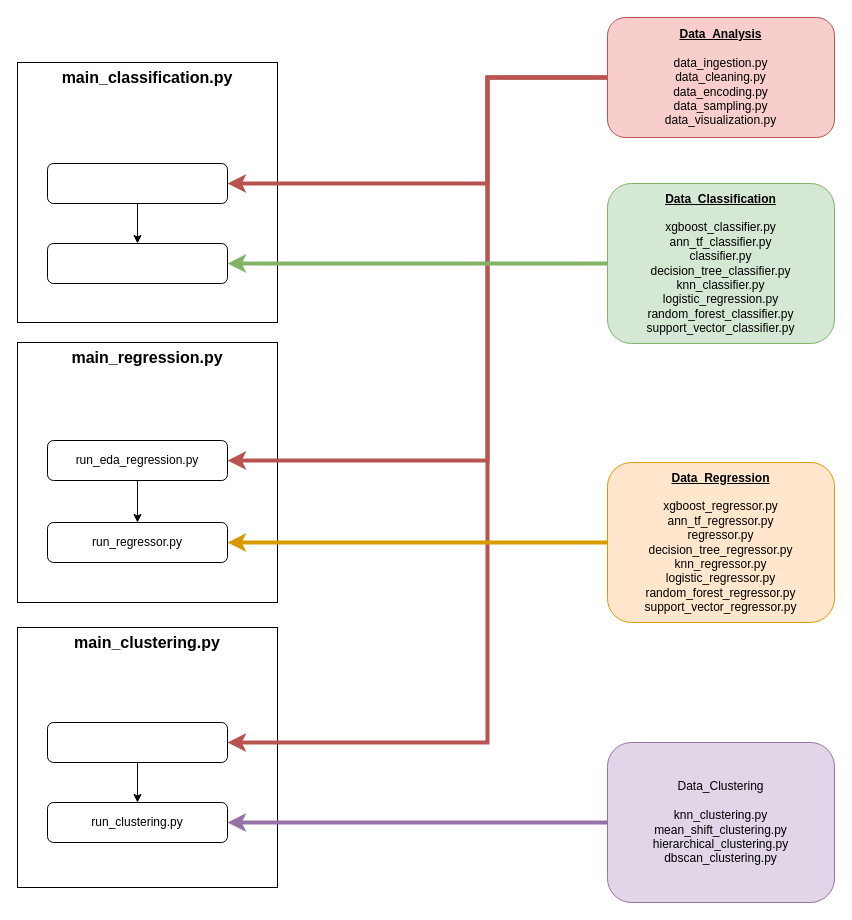
This 852x920 diagram has some shape labels left out. The shapes that lost their labels are listed below. From the top down, each one's box as (x1, y1, x2, y2) in pixels, then its label:
(46, 162, 228, 204): run_eda_classification.py
(46, 242, 228, 284): run_classifier.py
(46, 722, 228, 762): run_eda_clustering.py
